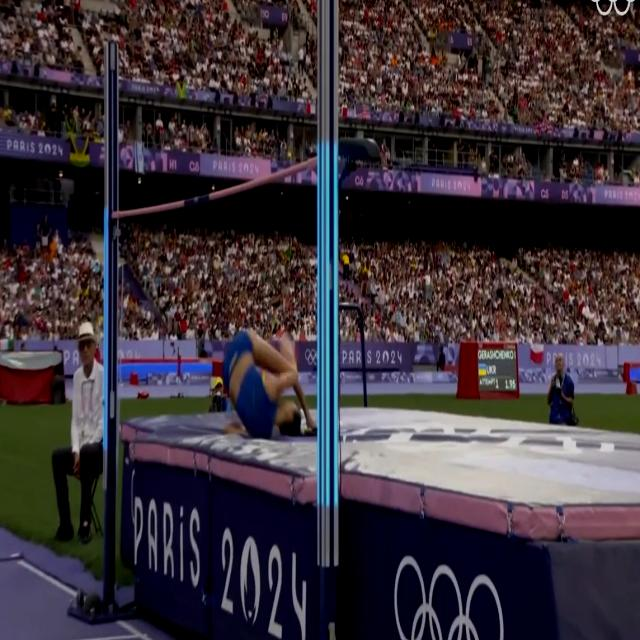land: (222, 325, 317, 438)
